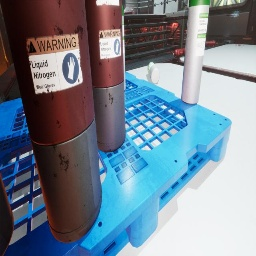0: (181, 0, 210, 105), (122, 4, 126, 91), (148, 62, 160, 84)
FireExtinguisher ]: (170, 48, 185, 58), (205, 41, 219, 47)
FirstAidBox ,: (124, 7, 135, 15)
NitrogenTank ,: (0, 0, 102, 243), (85, 0, 126, 152), (0, 172, 14, 256)
